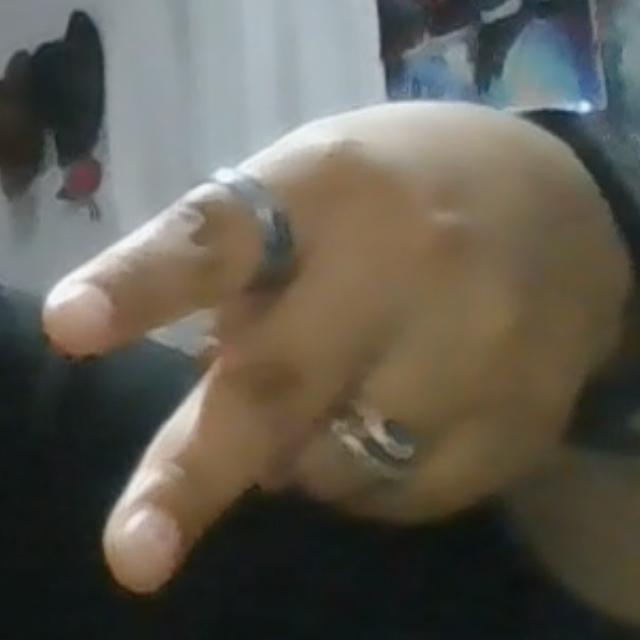K: (38, 95, 634, 600)
